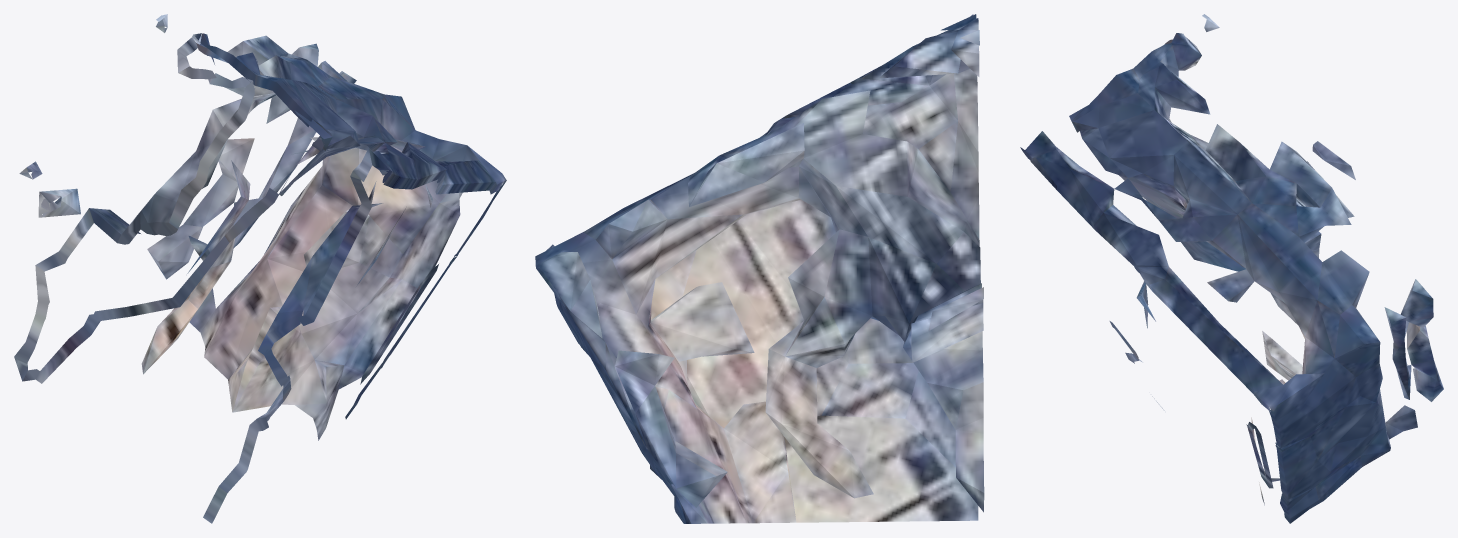
3 views of the same model, side by side, from view 1: azimuth 30°, elevation 25°; view 2: azimuth 150°, elevation 25°; view 3: azimuth 270°, elevation 25° (orthographic). The views are drawn at different scales.
Bounding box in the file's own units: 21.4 × 22.27 × 20.58.
1 material, 1 textured.
